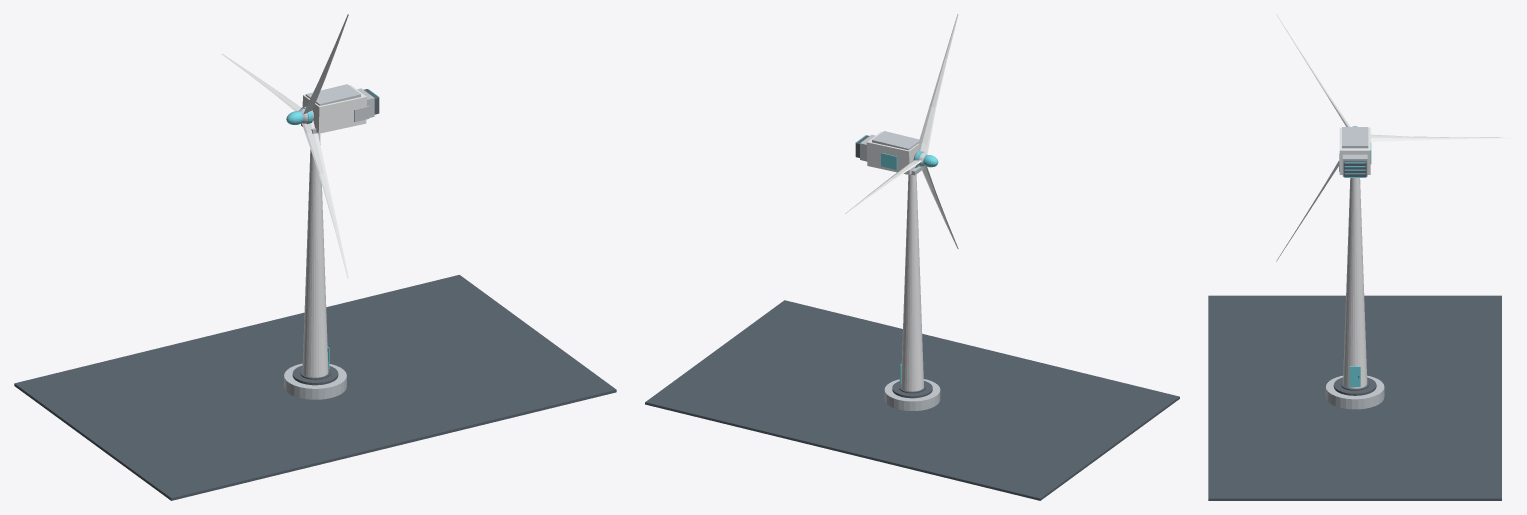
3 renders of one model, left to right at view 1: azimuth 30°, elevation 25°; view 2: azimuth 150°, elevation 25°; view 3: azimuth 270°, elevation 25°, orthographic. The views are drawn at different scales.
Parts seen in each view (by area): view 1: Ground, Tower, NacelleBody, Foundation, Blade_3, NacelleTop; view 2: Ground, Tower, NacelleBody, Foundation, Blade_2; view 3: Ground, Tower, Foundation, NacelleTop, Blade_1, NacelleBody, FoundationTop, RearVentBlock.
Part boxes in pixels (<box>): Ground: <box>14,275,616,500</box>; Tower: <box>302,133,328,377</box>; NacelleBody: <box>302,85,366,133</box>; Foundation: <box>284,363,346,399</box>; Blade_3: <box>302,120,348,278</box>; NacelleTop: <box>305,84,360,105</box>; Ground: <box>645,300,1179,500</box>; Tower: <box>901,174,923,391</box>; NacelleBody: <box>866,131,918,174</box>; Foundation: <box>884,379,940,410</box>; Blade_2: <box>917,14,958,154</box>; Ground: <box>1208,295,1501,500</box>; Tower: <box>1343,178,1367,388</box>; Foundation: <box>1325,375,1384,409</box>; NacelleTop: <box>1342,127,1368,148</box>; Blade_1: <box>1370,134,1512,141</box>; NacelleBody: <box>1339,127,1370,174</box>; FoundationTop: <box>1333,377,1376,395</box>; RearVentBlock: <box>1343,160,1366,177</box>.
Size of the model in its own units: 36 by 31.53 by 22.8.
